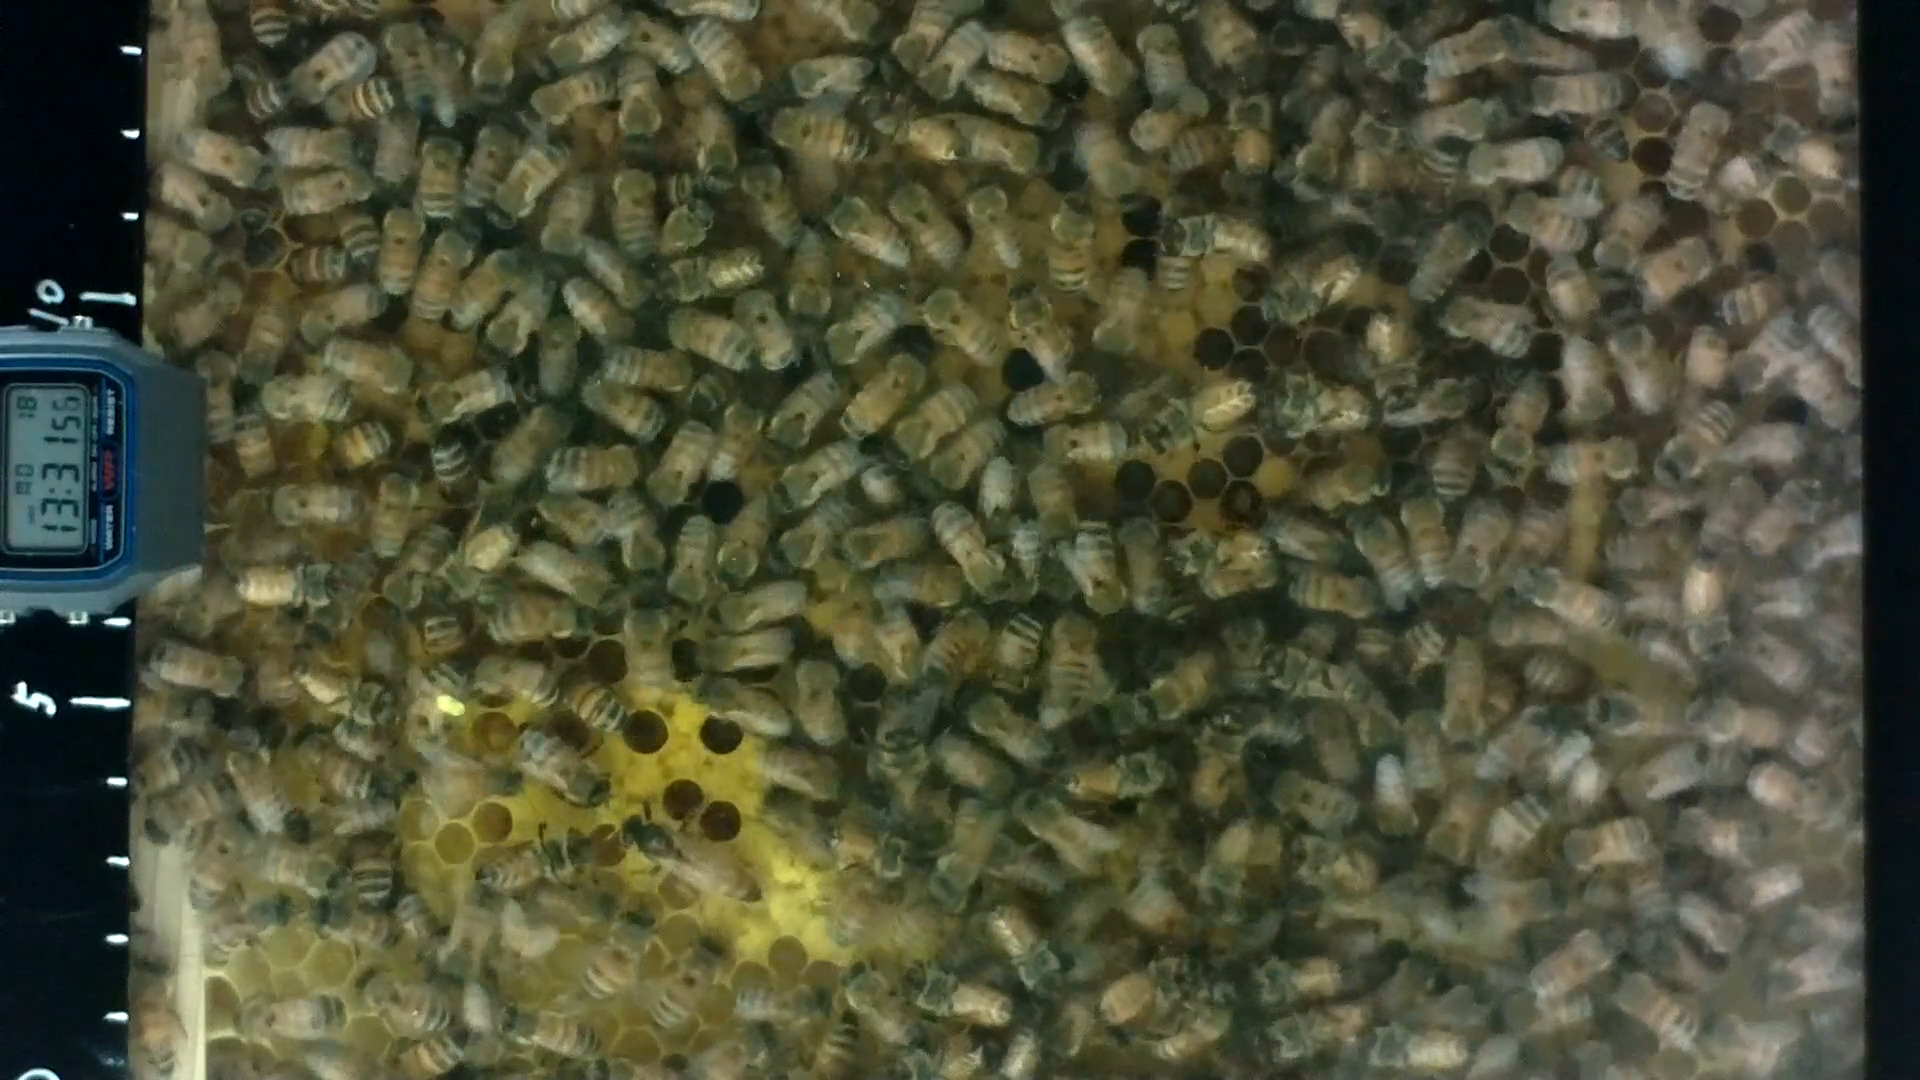hati: (618, 800, 764, 913), (506, 723, 604, 816), (1158, 200, 1276, 277), (1344, 504, 1423, 613), (1614, 963, 1704, 1059), (687, 16, 769, 120), (918, 282, 1007, 377), (934, 501, 1010, 605), (764, 100, 873, 173), (822, 193, 914, 278), (1000, 274, 1076, 376), (1433, 290, 1535, 367), (887, 178, 971, 270), (237, 981, 353, 1047), (481, 592, 595, 657), (1269, 758, 1360, 839), (496, 993, 600, 1062), (1060, 9, 1134, 104), (171, 123, 272, 193), (1516, 564, 1617, 634), (243, 558, 352, 621), (1069, 508, 1129, 624), (1425, 12, 1527, 78), (988, 17, 1072, 96), (1604, 311, 1664, 421), (413, 222, 480, 319), (483, 825, 564, 903), (157, 642, 252, 708), (771, 363, 848, 444), (651, 411, 711, 516), (1291, 562, 1379, 632), (385, 16, 444, 117), (545, 439, 641, 500), (287, 30, 368, 103), (793, 649, 849, 752), (777, 443, 858, 513), (264, 371, 364, 427), (1660, 96, 1717, 196), (1660, 400, 1725, 487), (266, 477, 363, 535), (837, 509, 928, 570), (600, 342, 695, 400), (719, 578, 814, 636), (1000, 369, 1098, 425), (280, 164, 372, 222), (495, 146, 564, 223), (665, 249, 767, 301), (1520, 69, 1619, 121), (1561, 814, 1648, 873), (431, 369, 520, 427), (658, 940, 723, 1019), (1414, 208, 1466, 305), (596, 909, 650, 1000), (1455, 496, 1505, 593), (1468, 138, 1563, 190), (611, 160, 657, 265), (849, 353, 913, 430), (417, 131, 465, 227), (992, 608, 1040, 704), (372, 469, 418, 566), (467, 124, 510, 208), (378, 207, 418, 297), (1044, 419, 1121, 465)
